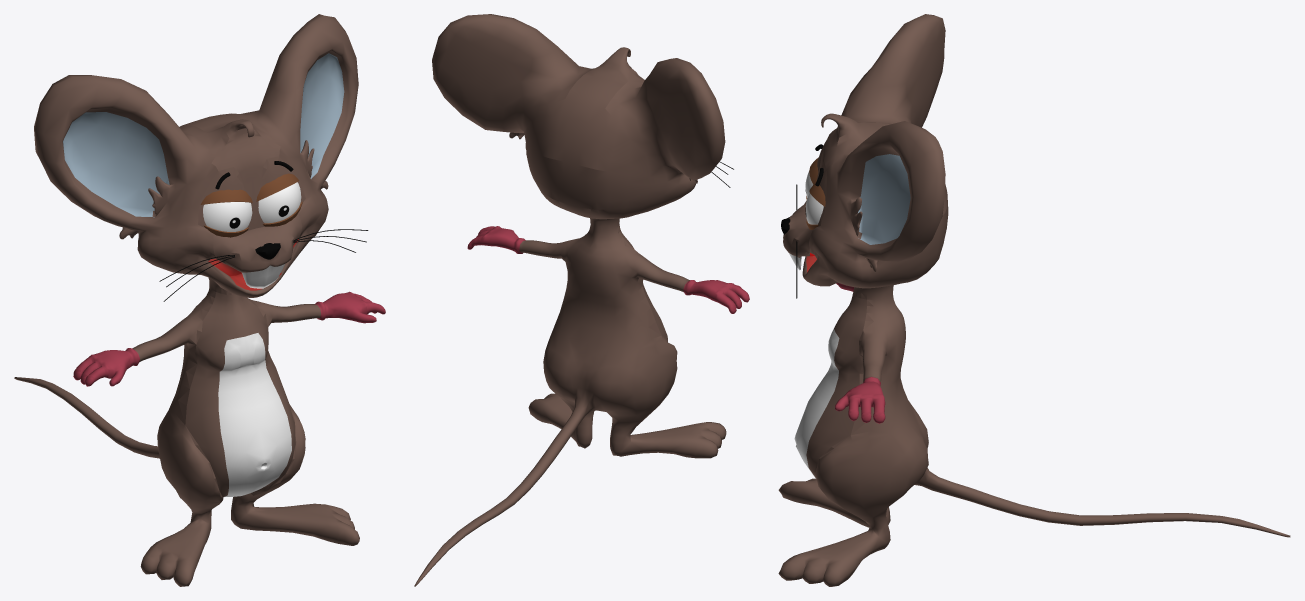
Rendered from Lightning.FBX.
3 views of the same model, side by side, from view 1: azimuth 30°, elevation 25°; view 2: azimuth 150°, elevation 25°; view 3: azimuth 270°, elevation 25° (orthographic). The views are drawn at different scales.
Visible parts, largest first — view 1: open mouth, Sphere02.Sphere01, Sphere02, Sphere04.Sphere03, Sphere04; view 2: open mouth; view 3: open mouth.
Part boxes in pixels (box(x1,y1,x2,y2)): open mouth: box(14, 14, 385, 586); Sphere02.Sphere01: box(203, 202, 252, 231); Sphere02: box(258, 182, 301, 223); Sphere04.Sphere03: box(200, 189, 252, 237); Sphere04: box(256, 173, 302, 226); open mouth: box(414, 14, 749, 586); open mouth: box(778, 14, 1290, 586).
Size of the model in its own units: 139 by 197 by 196.
8 materials, 1 textured.
